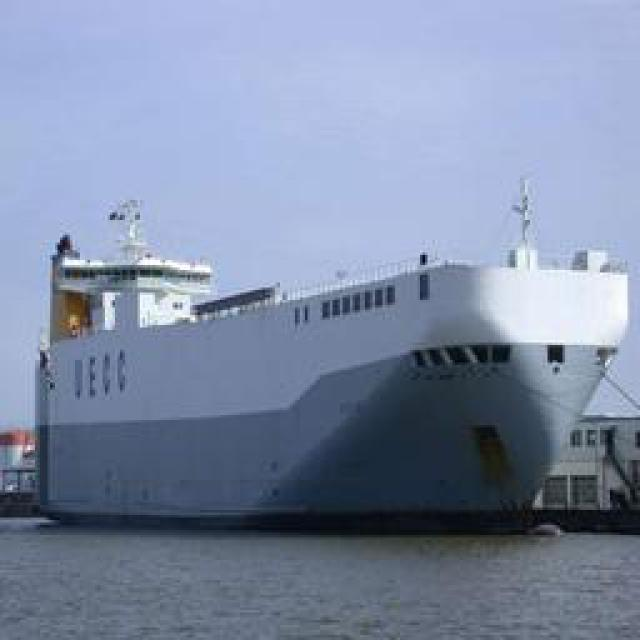Ship: (37, 172, 630, 532)
